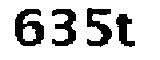3: (50, 4, 78, 51)
5: (84, 4, 118, 55)
6: (13, 8, 47, 47)
t: (115, 12, 144, 52)
